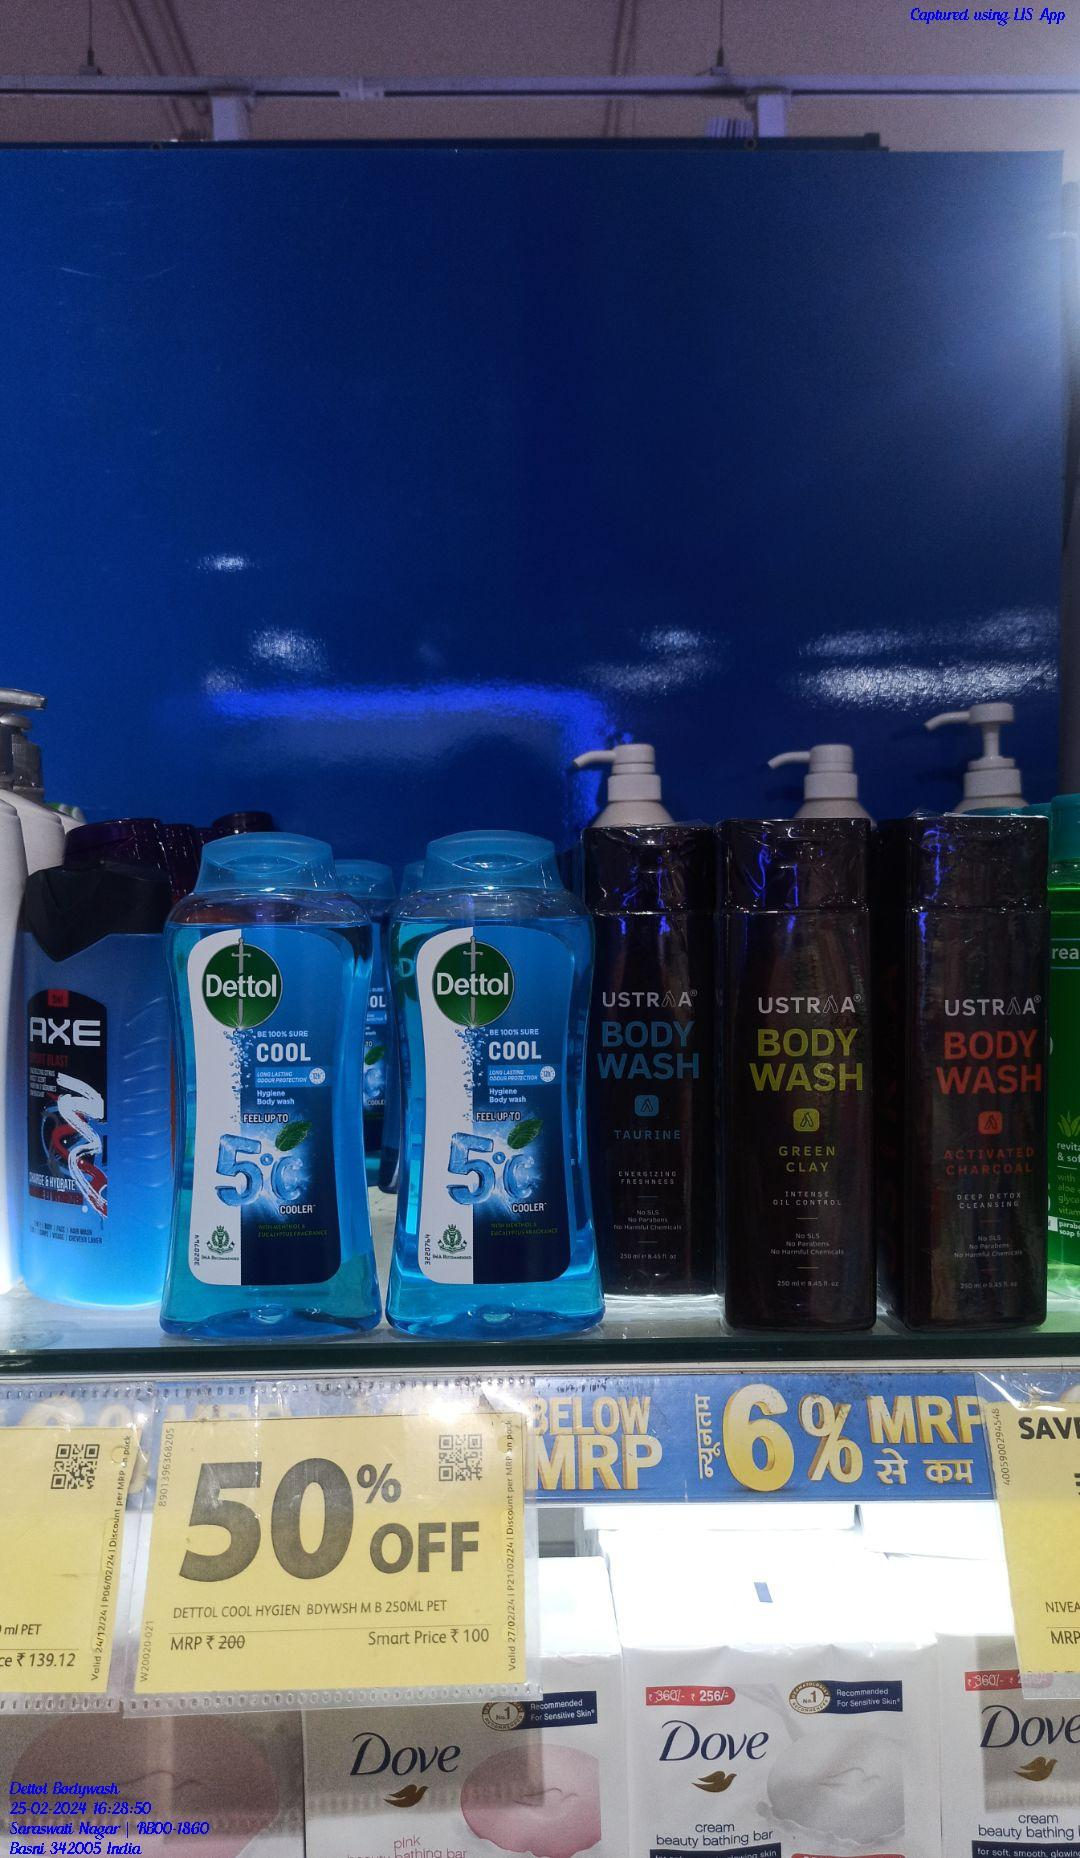Dettol_Bodywash_Cool: (162, 833, 388, 1342), (401, 841, 604, 1337)
